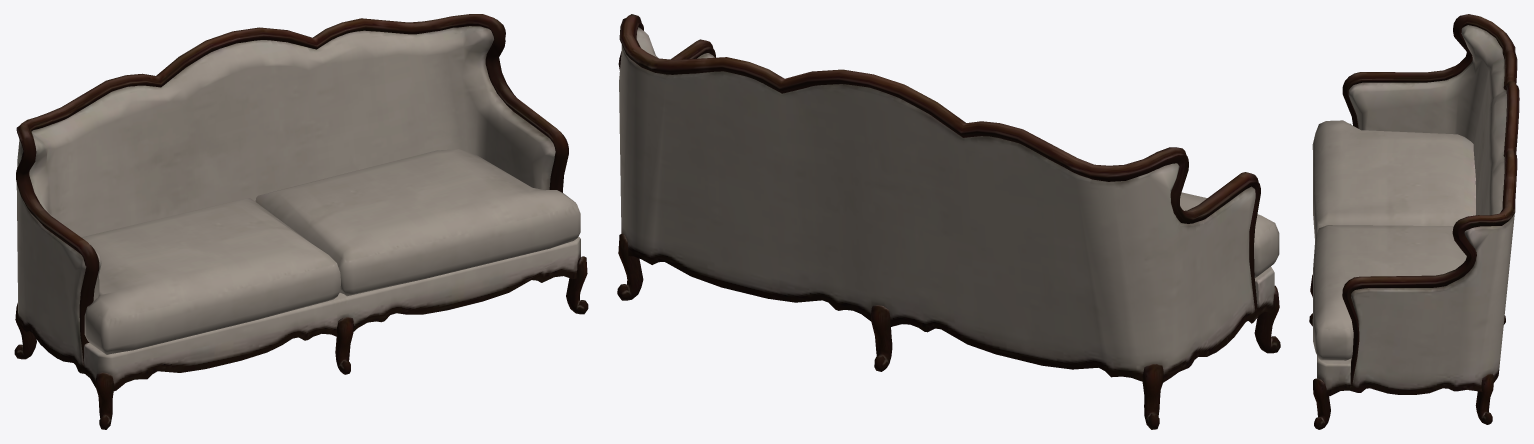
The model's file is Sofa_01.glb.
3 views of the same model, side by side, from view 1: azimuth 30°, elevation 25°; view 2: azimuth 150°, elevation 25°; view 3: azimuth 270°, elevation 25° (orthographic). The views are drawn at different scales.
Visible parts, largest first — view 1: Sofa_01; view 2: Sofa_01; view 3: Sofa_01.
Boxes of the visible parts, x1,y1,x2,y2 form: Sofa_01: (14,14,588,429); Sofa_01: (617,14,1280,429); Sofa_01: (1309,14,1519,429).
Bounding box in the file's own units: 1.57 × 0.7965 × 0.658.
Materials: 1 (1 with a texture image).
